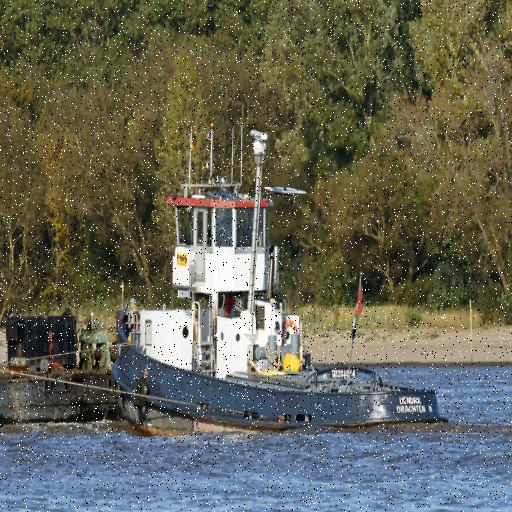tugboat: (108, 174, 454, 450)
